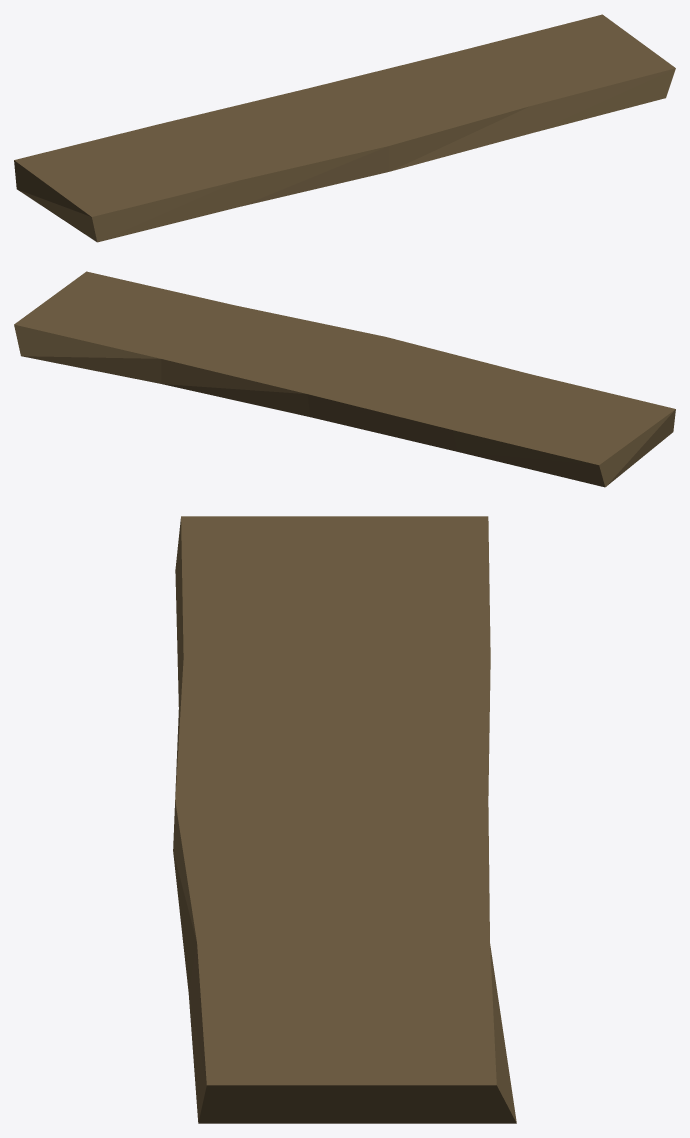
Rendered from Brett 5.fbx.
3 renders of one model, top to bottom at view 1: azimuth 30°, elevation 25°; view 2: azimuth 150°, elevation 25°; view 3: azimuth 270°, elevation 25°, orthographic. The views are drawn at different scales.
Visible parts, largest first — view 1: Würfel5_2; view 2: Würfel5_2; view 3: Würfel5_2.
Boxes of the visible parts, bbox=[...] form: Würfel5_2: bbox=[14, 14, 675, 242]; Würfel5_2: bbox=[14, 271, 675, 487]; Würfel5_2: bbox=[173, 516, 516, 1123].
Bounding box in the file's own units: 147 × 6 × 37.33.
